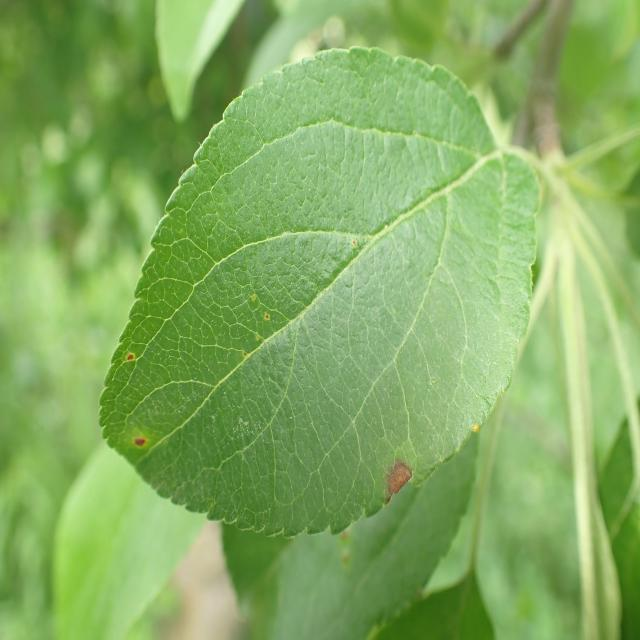Black Rot: (379, 456, 422, 506)
